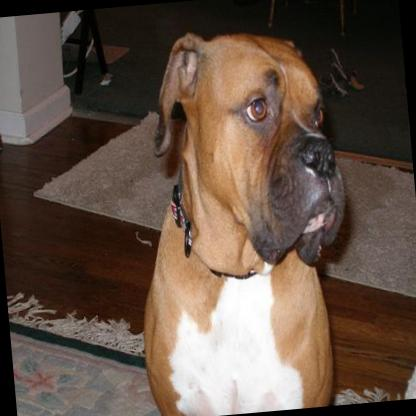boxer: (115, 20, 363, 416)
